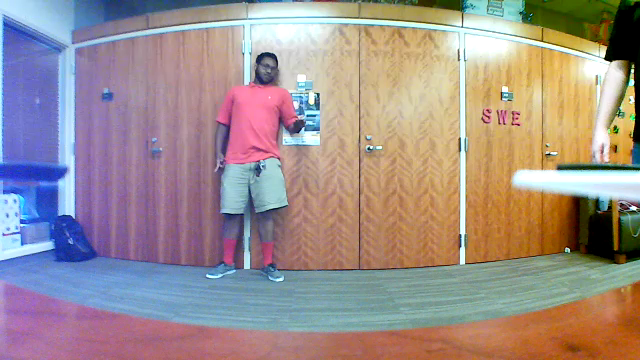land: (288, 113, 309, 138)
